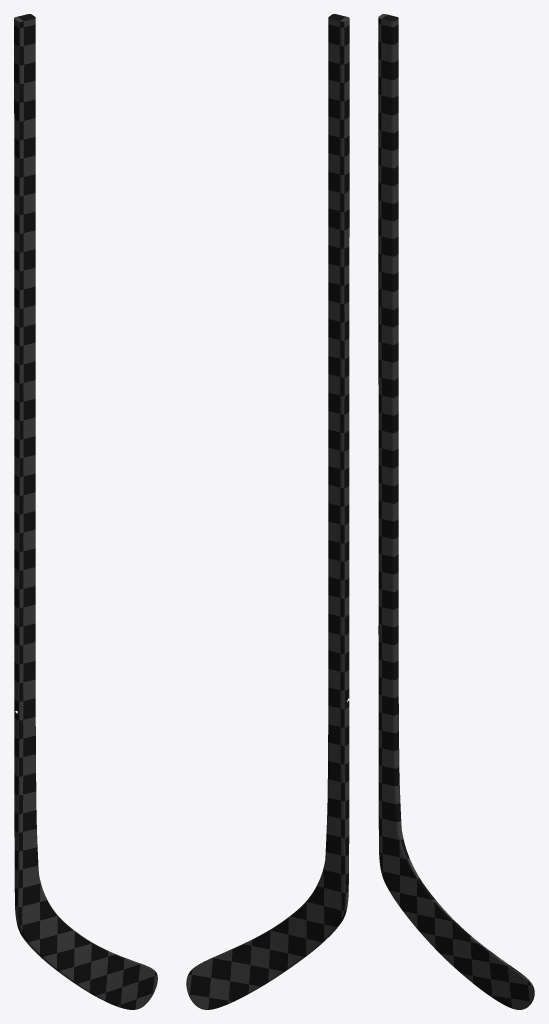
3 views of the same model, side by side, from view 1: azimuth 30°, elevation 25°; view 2: azimuth 150°, elevation 25°; view 3: azimuth 330°, elevation 25° (orthographic). The views are drawn at different scales.
Parts seen in each view (by area): view 1: geometry_0; view 2: geometry_0; view 3: geometry_0.
Boxes of the visible parts, <box> form: geometry_0: <box>14,14,157,1009</box>; geometry_0: <box>186,14,349,1009</box>; geometry_0: <box>378,14,534,1009</box>.
Bounding box in the file's own units: 256 × 1650 × 46.74.
Materials: 1 (1 with a texture image).
